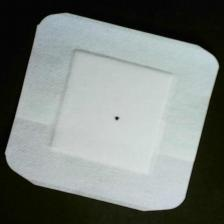Dressing: (6, 13, 221, 214)
F_Body: (105, 103, 134, 133)
